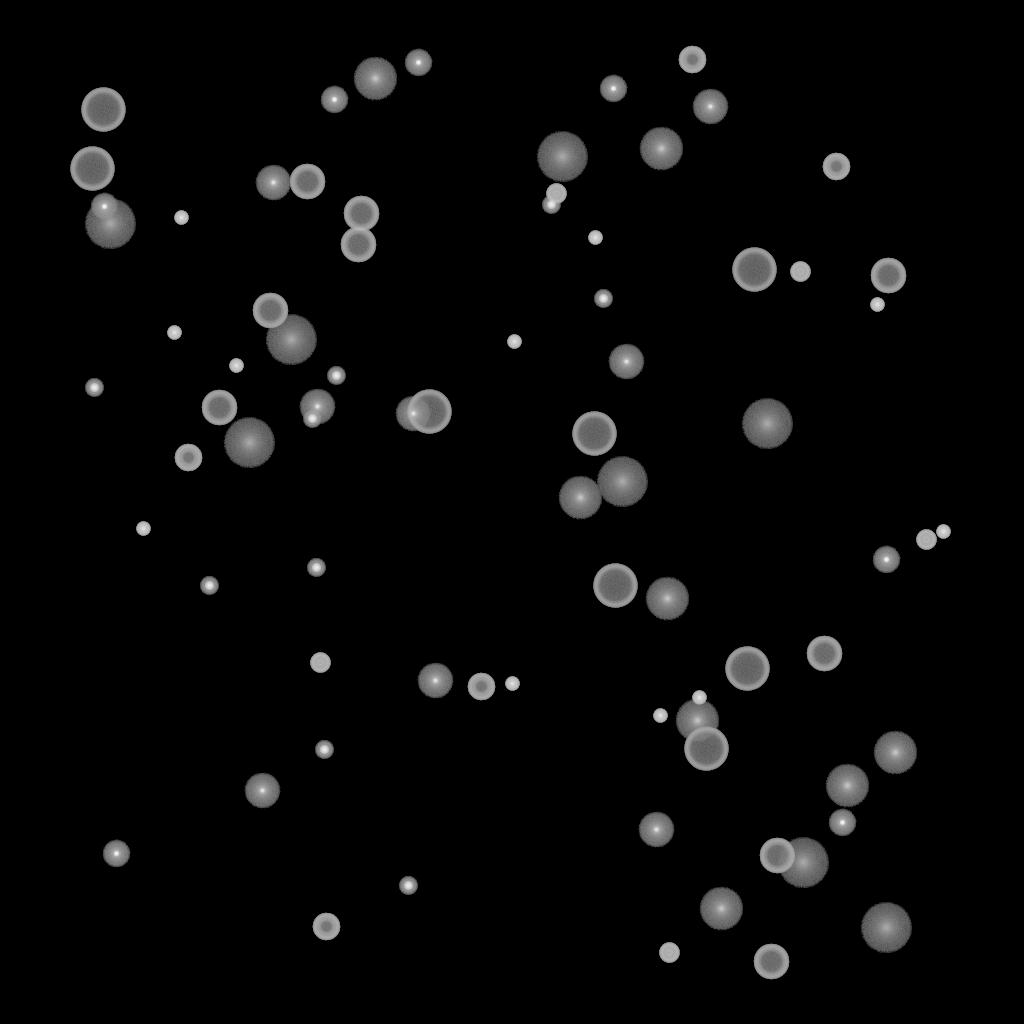depth:-10: (599, 75, 627, 103), (320, 86, 348, 114), (828, 809, 856, 837), (404, 49, 432, 77), (872, 546, 900, 574), (102, 840, 130, 868), (90, 193, 118, 221)
depth:-20: (327, 367, 345, 385), (200, 577, 218, 595), (315, 741, 333, 759), (542, 196, 560, 214), (594, 290, 612, 308), (399, 877, 417, 895), (307, 559, 325, 577), (303, 410, 321, 428), (85, 379, 103, 397)
depth:-30: (653, 709, 667, 723), (167, 326, 181, 340), (692, 691, 706, 705), (505, 677, 519, 691), (174, 211, 188, 225), (588, 231, 602, 245), (870, 298, 884, 312), (936, 525, 950, 539), (136, 522, 150, 536), (229, 359, 243, 373), (507, 335, 521, 349)
depth:-40: (546, 184, 566, 204), (659, 943, 679, 963), (310, 653, 330, 673), (790, 262, 810, 282), (916, 530, 936, 550)
depth:-50: (174, 444, 202, 472), (822, 153, 850, 181), (678, 46, 706, 74), (312, 913, 340, 941), (467, 673, 495, 701)
depth:-60: (340, 227, 376, 263), (759, 838, 795, 874), (870, 258, 906, 294), (343, 196, 379, 232), (201, 390, 237, 426), (252, 293, 288, 329), (806, 636, 842, 672), (289, 164, 325, 200), (753, 944, 789, 980)
depth:-70: (407, 390, 451, 434), (593, 564, 637, 608), (725, 647, 769, 691), (81, 88, 125, 132), (572, 412, 616, 456), (70, 147, 114, 191), (732, 248, 776, 292), (684, 727, 728, 771)
depth:0: (692, 89, 728, 125), (638, 812, 674, 848), (244, 773, 280, 809), (417, 663, 453, 699), (299, 389, 335, 425), (395, 396, 431, 432), (608, 344, 644, 380), (255, 165, 291, 201)
depth:10: (825, 764, 869, 808), (699, 887, 743, 931), (645, 577, 689, 621), (873, 731, 917, 775), (353, 57, 397, 101), (675, 699, 719, 743), (558, 476, 602, 520), (639, 127, 683, 171)
depth:20: (596, 457, 648, 507), (536, 132, 588, 182), (84, 199, 136, 249), (741, 399, 793, 449), (223, 418, 275, 468), (265, 315, 317, 365), (860, 903, 912, 953), (777, 838, 829, 888)
